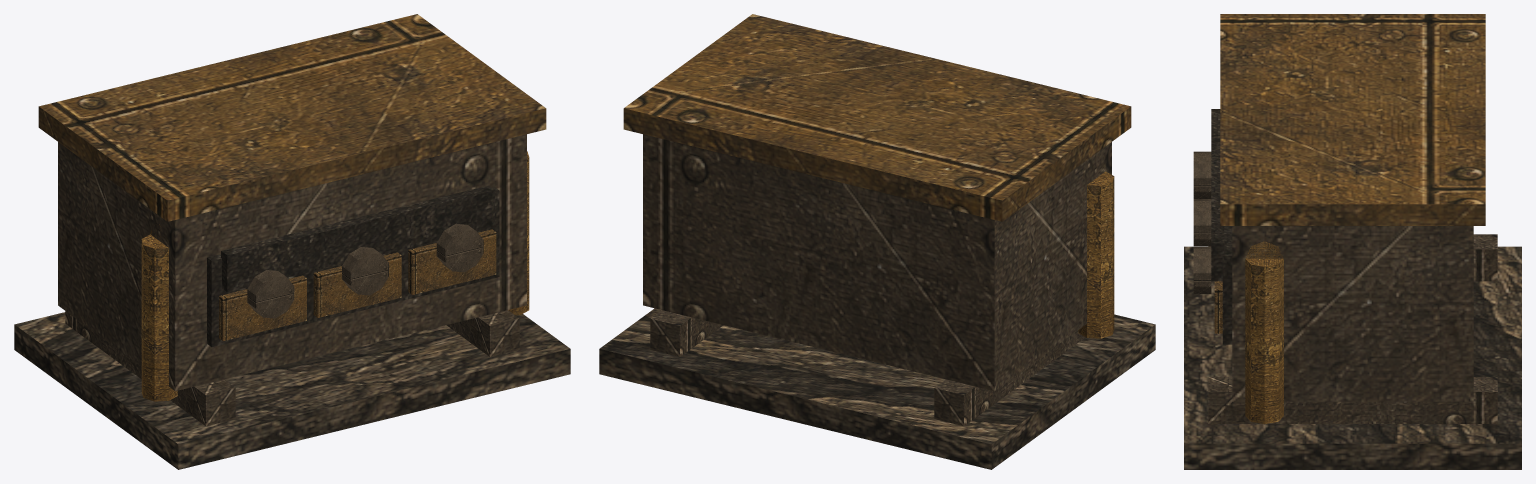
Rendered from west-vein-cooling-marker.glb.
The picture shows the model from 3 angles, left to right: view 1: azimuth 30°, elevation 25°; view 2: azimuth 150°, elevation 25°; view 3: azimuth 270°, elevation 25°; orthographic projection. The views are drawn at different scales.
Parts seen in each view (by area): view 1: west-vein-cooling-marker; view 2: west-vein-cooling-marker; view 3: west-vein-cooling-marker.
Part boxes in pixels (x1=…): west-vein-cooling-marker: x1=14, y1=14, x2=570, y2=469; west-vein-cooling-marker: x1=599, y1=14, x2=1155, y2=469; west-vein-cooling-marker: x1=1184, y1=14, x2=1521, y2=469.
Size of the model in its own units: 2.9 by 1.8 by 2.1.
1 material, 1 textured.
